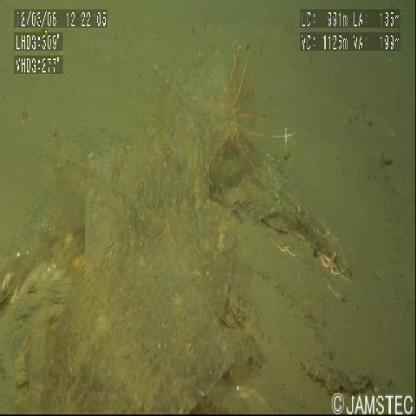Rác: (7, 40, 353, 412)
